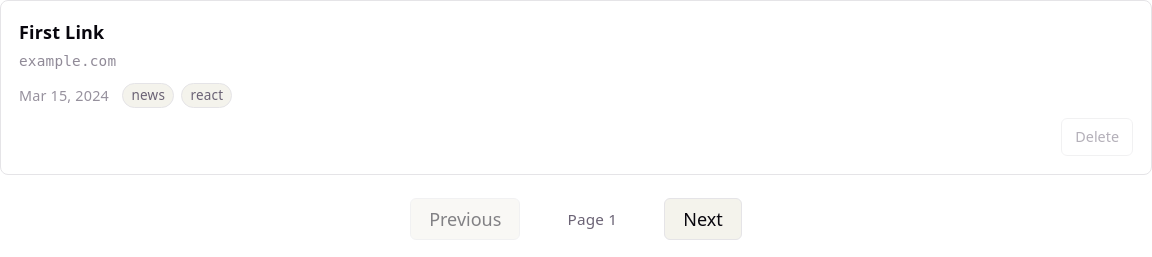
Test: LinkList › paginates forward and back using the cursor returned by the API
Check: the link "First Link" is shown, box [19,20,104,44]
Check: the button "Previous" is disabled, box [410,198,520,240]
Click the button "Next": (703, 219) [664,198,742,240]
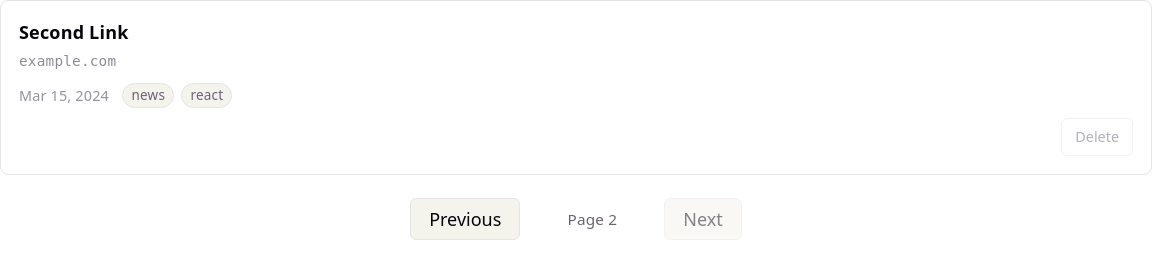
Check: the link "Second Link" is shown, box [19,20,128,44]
Check: the button "Next" is disabled, box [664,198,742,240]
Click the button "Previous": (465, 219) [410,198,520,240]
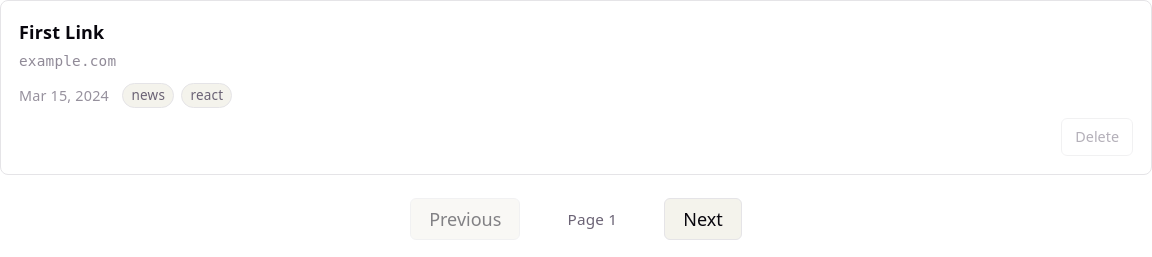
Check: the link "First Link" is shown, box [19,20,104,44]
